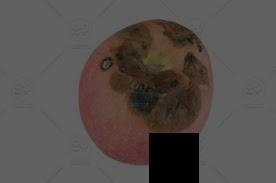rotten apple: (99, 15, 210, 132)
